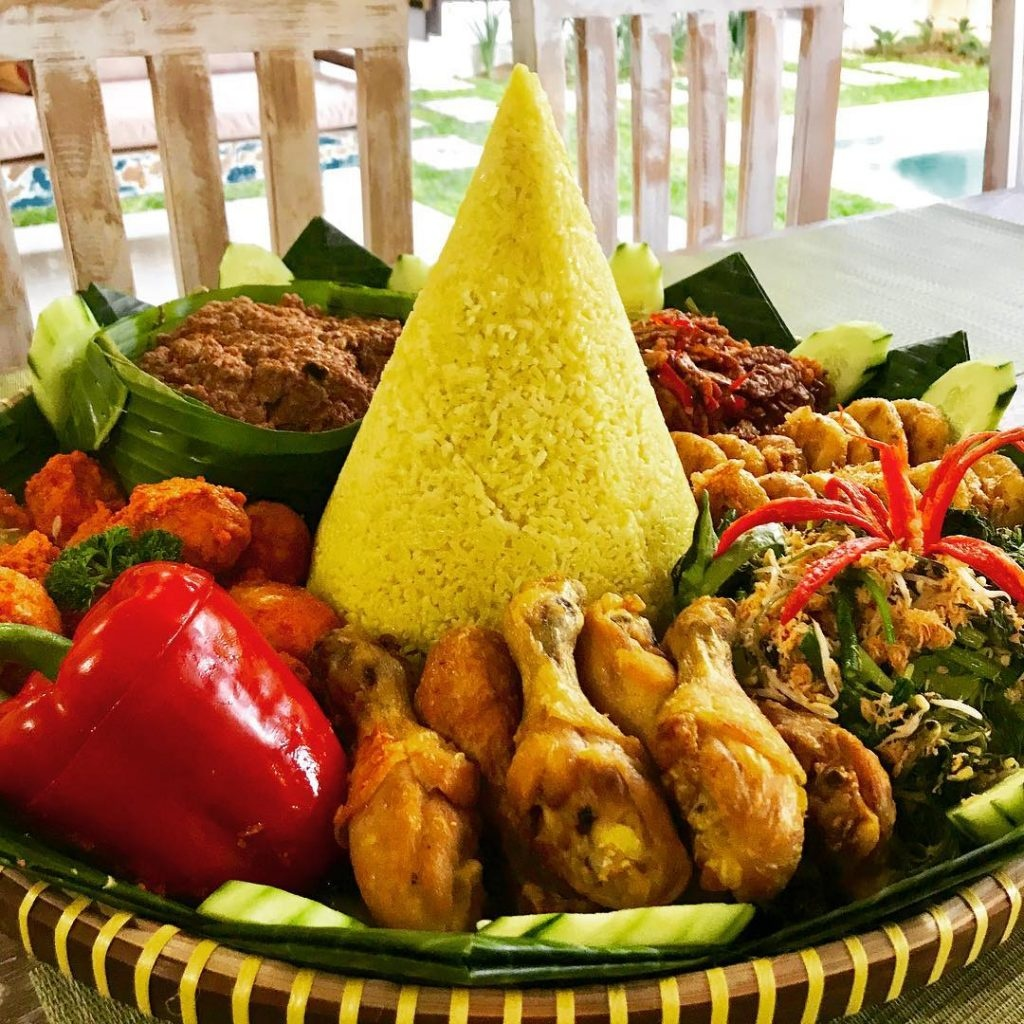tumpeng: (287, 94, 741, 596)
